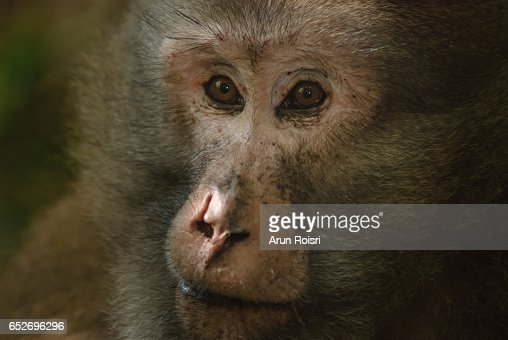monkey: (1, 1, 507, 318)
